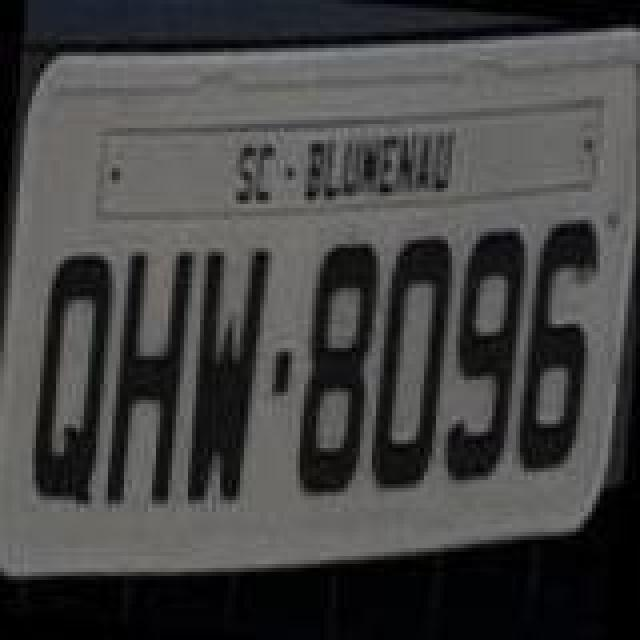6: (512, 216, 604, 488)
8: (296, 236, 388, 500)
9: (440, 216, 532, 488)
H: (104, 244, 196, 516)
O: (368, 232, 460, 504)
Q: (28, 248, 120, 512)
W: (180, 240, 272, 512)
